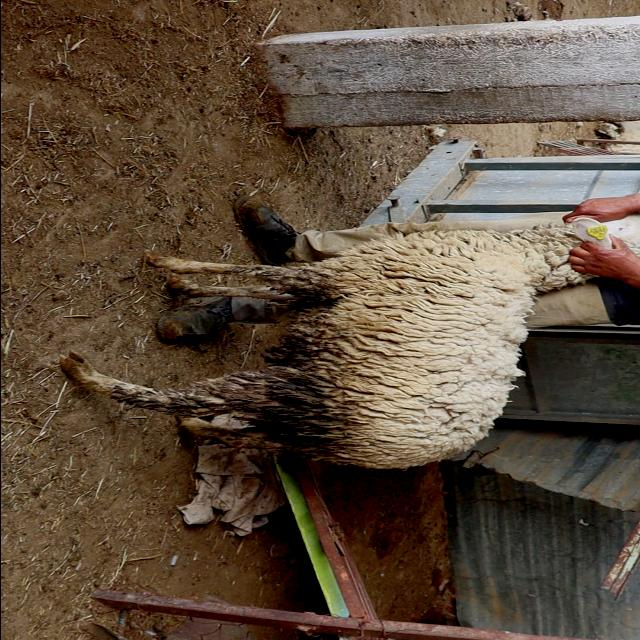Score_3: (61, 215, 640, 468)
